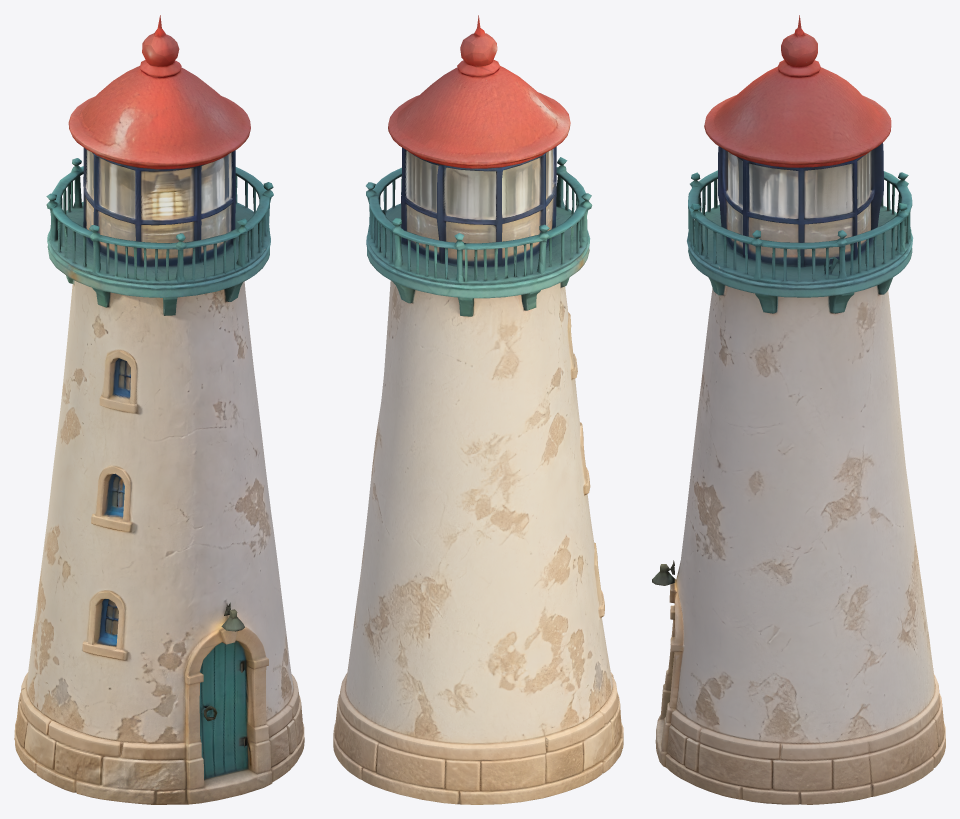
The model's file is base_basic_shaded.glb.
The picture shows the model from 3 angles, left to right: view 1: azimuth 30°, elevation 25°; view 2: azimuth 150°, elevation 25°; view 3: azimuth 270°, elevation 25°; orthographic projection.
Parts seen in each view (by area): view 1: model; view 2: model; view 3: model.
Boxes of the visible parts, x1=… form: model: x1=14, y1=15, x2=304, y2=804; model: x1=333, y1=15, x2=623, y2=804; model: x1=652, y1=15, x2=945, y2=804.
Bounding box in the file's own units: 0.6767 × 1.89 × 0.688.
1 material, 1 textured.
